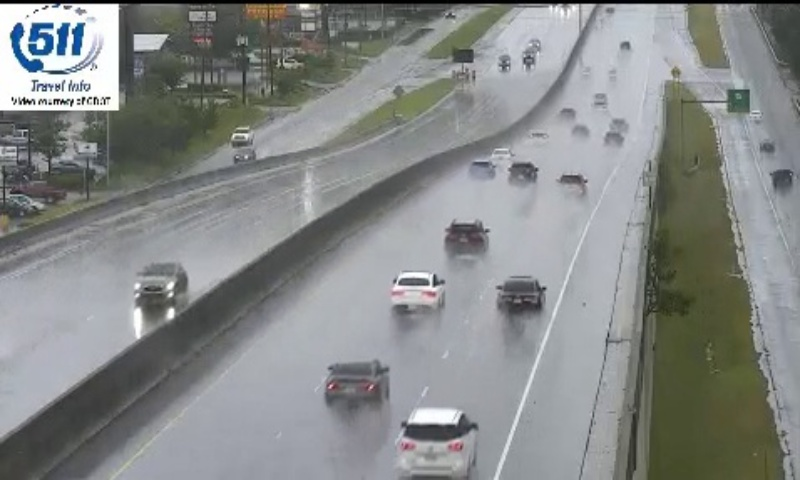car: (396, 409, 478, 480), (324, 360, 389, 403), (389, 272, 443, 310), (497, 275, 543, 313), (445, 220, 487, 257), (507, 161, 538, 188), (557, 171, 587, 196), (468, 158, 492, 179), (490, 148, 513, 167)
